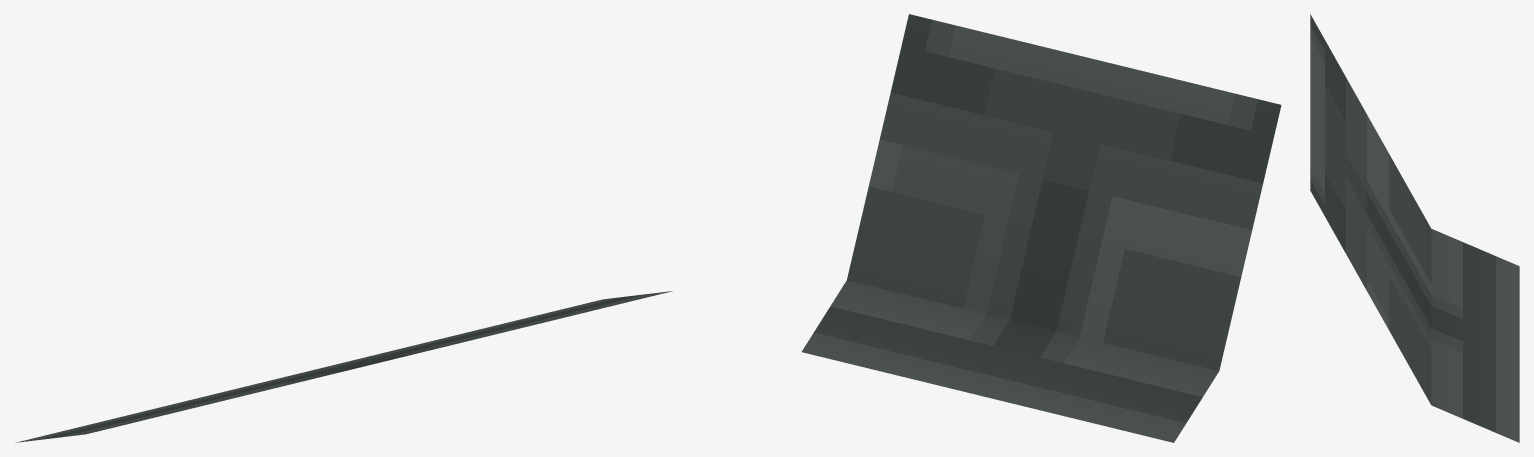
3 views of the same model, side by side, from view 1: azimuth 30°, elevation 25°; view 2: azimuth 150°, elevation 25°; view 3: azimuth 270°, elevation 25° (orthographic). The views are drawn at different scales.
Bounding box in the file's own units: 1 × 0.6652 × 0.5.
1 material, 1 textured.
